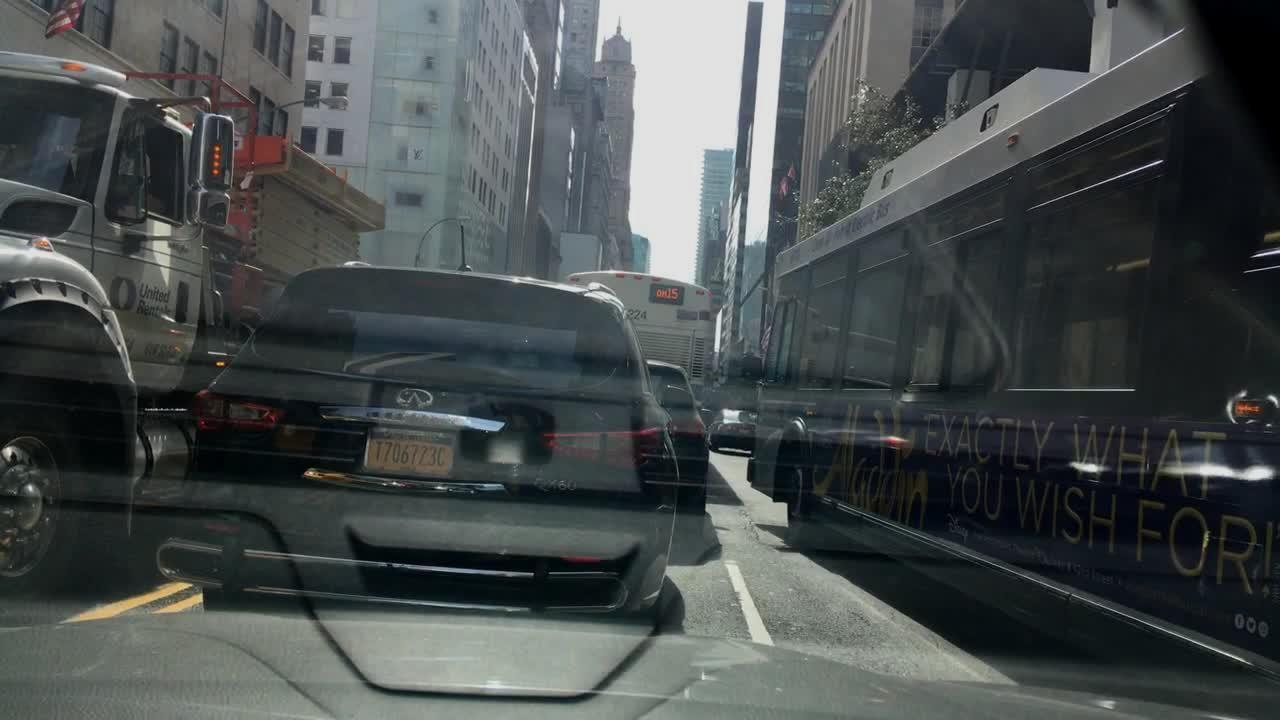Infiniti: (383, 378, 442, 416)
